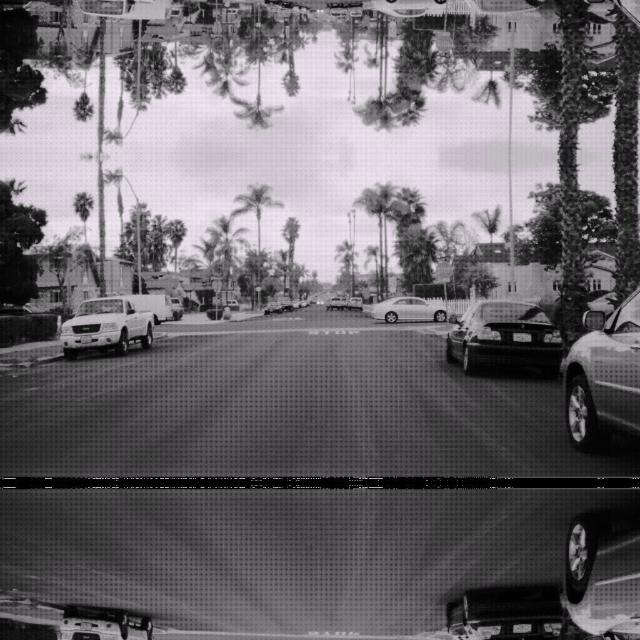stop: (435, 259, 453, 277), (435, 35, 453, 53)
